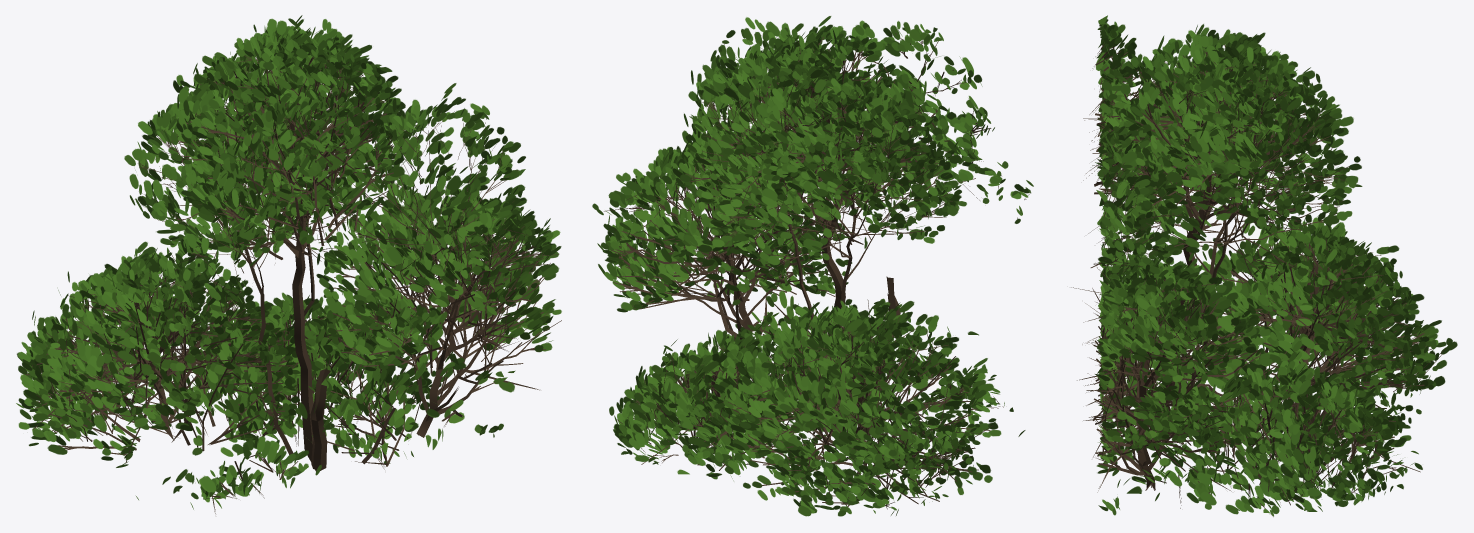
The picture shows the model from 3 angles, left to right: view 1: azimuth 30°, elevation 25°; view 2: azimuth 150°, elevation 25°; view 3: azimuth 270°, elevation 25°; orthographic projection. The views are drawn at different scales.
Visible parts, largest first — view 1: oak 01.001_trunk_Mat.001_0.347; view 2: oak 01.001_trunk_Mat.001_0.347; view 3: oak 01.001_trunk_Mat.001_0.347.
Part boxes in pixels (x1=…): oak 01.001_trunk_Mat.001_0.347: x1=16, y1=15, x2=561, y2=513; oak 01.001_trunk_Mat.001_0.347: x1=592, y1=16, x2=1033, y2=516; oak 01.001_trunk_Mat.001_0.347: x1=1071, y1=15, x2=1457, y2=516.
Bounding box in the file's own units: 5.03 × 4.31 × 3.64.
2 materials, 1 textured.
